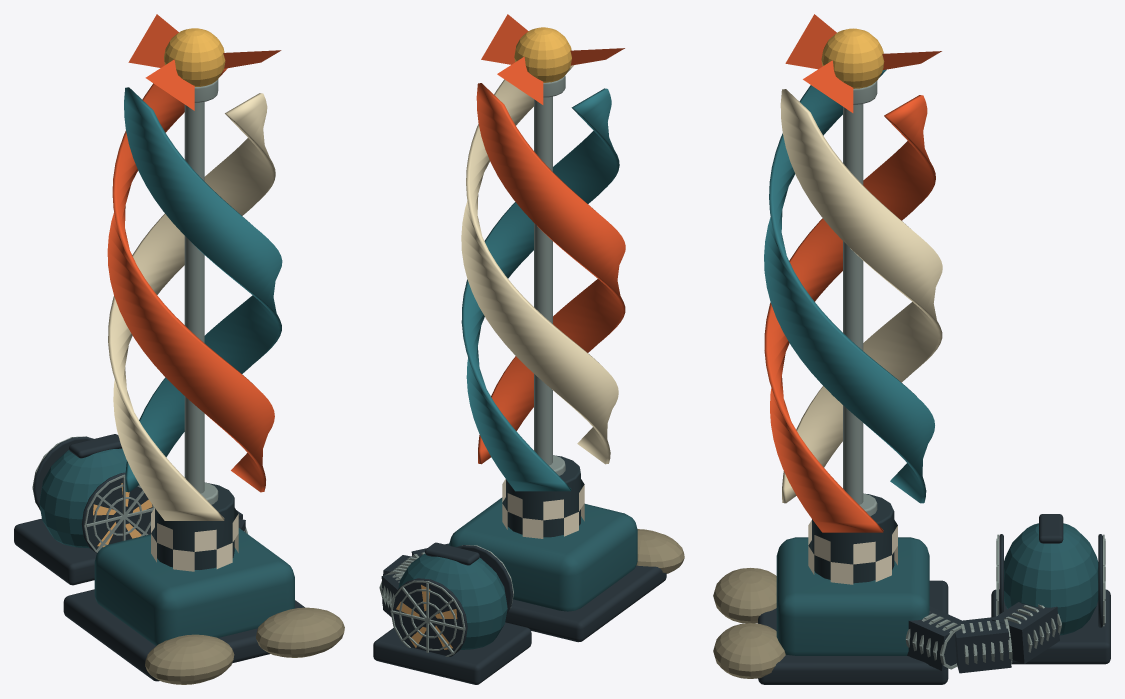
File: checkpoint.glb
The picture shows the model from 3 angles, left to right: view 1: azimuth 30°, elevation 25°; view 2: azimuth 150°, elevation 25°; view 3: azimuth 270°, elevation 25°; orthographic projection. The views are drawn at different scales.
Parts seen in each view (by area): view 1: MachineTeal, VortexOrange, VortexTeal, VortexIvory, MachineDark, MachineSteel, Sandbag, StaticInk, VortexGold, StaticIvory, FanRotorOrange; view 2: VortexOrange, MachineTeal, MachineDark, VortexIvory, VortexTeal, MachineSteel, StaticInk, VortexGold, StaticIvory, Sandbag, FanRotorOrange; view 3: MachineTeal, VortexIvory, VortexOrange, MachineDark, VortexTeal, MachineSteel, Sandbag, StaticInk, VortexGold, StaticIvory.
Part boxes in pixels (box(x1,y1,x2,y2)): MachineTeal: box(39, 448, 294, 645); VortexOrange: box(107, 14, 281, 492); VortexTeal: box(124, 87, 282, 492); VortexIvory: box(108, 93, 275, 520); MachineDark: box(14, 434, 304, 681); MachineSteel: box(32, 79, 248, 552); Sandbag: box(145, 607, 344, 684); StaticInk: box(151, 482, 238, 569); VortexGold: box(164, 28, 225, 86); StaticIvory: box(151, 508, 238, 571); FanRotorOrange: box(93, 483, 152, 547); VortexOrange: box(476, 14, 625, 464); MachineTeal: box(398, 497, 637, 649); MachineDark: box(373, 542, 666, 684); VortexIvory: box(461, 65, 618, 464); VortexTeal: box(461, 88, 619, 491); MachineSteel: box(379, 75, 565, 656); StaticInk: box(502, 455, 584, 537); VortexGold: box(514, 27, 571, 82); StaticIvory: box(502, 479, 584, 538); Sandbag: box(636, 529, 684, 573); FanRotorOrange: box(396, 585, 457, 649); MachineTeal: box(776, 523, 1098, 655); VortexIvory: box(780, 89, 942, 503); VortexOrange: box(764, 14, 941, 532); MachineDark: box(758, 514, 1110, 684); VortexTeal: box(764, 69, 934, 503); MachineSteel: box(843, 81, 1105, 669); Sandbag: box(713, 568, 785, 678); StaticInk: box(808, 493, 897, 583); VortexGold: box(821, 28, 884, 88); StaticIvory: box(808, 520, 897, 584).
Bounding box in the file's own units: 1.25 × 3.62 × 2.13.
